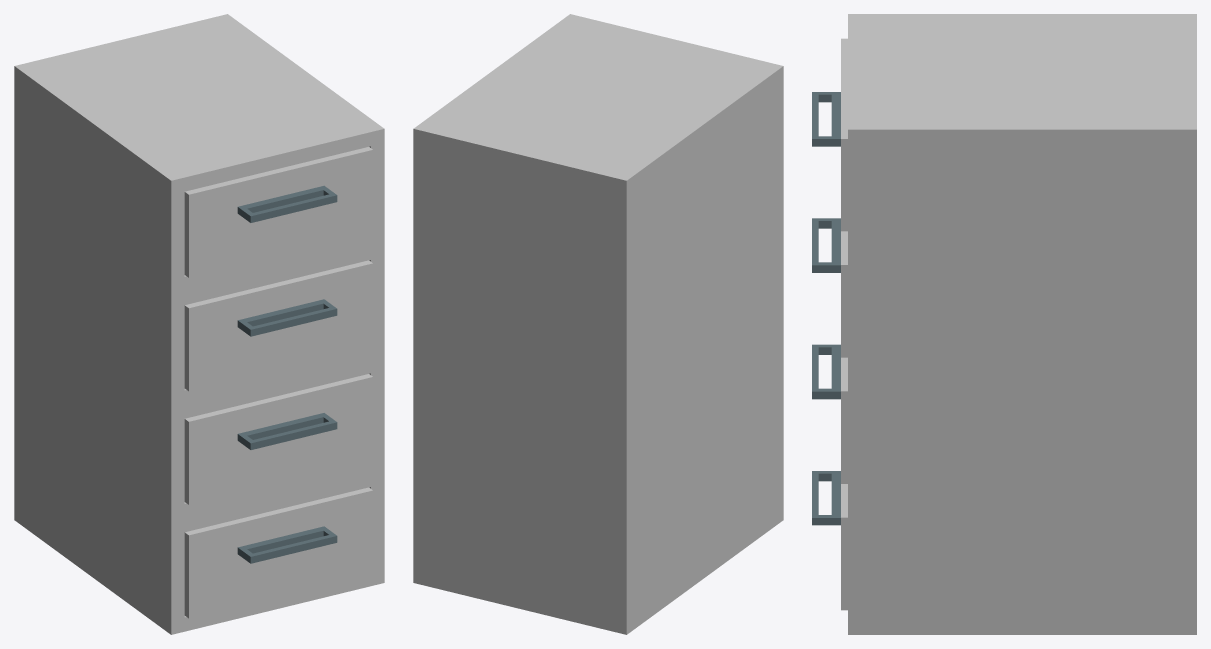
Rendered from CabinetLargeV1White.fbx.
3 views of the same model, side by side, from view 1: azimuth 30°, elevation 25°; view 2: azimuth 150°, elevation 25°; view 3: azimuth 270°, elevation 25° (orthographic). The views are drawn at different scales.
Parts seen in each view (by area): view 1: CabinetLargeV1White, CabinetLargeV1White_Drawer4, CabinetLargeV1White_Drawer3, CabinetLargeV1White_Drawer2, CabinetLargeV1White_Drawer1; view 2: CabinetLargeV1White; view 3: CabinetLargeV1White, CabinetLargeV1White_Drawer1, CabinetLargeV1White_Drawer3, CabinetLargeV1White_Drawer4, CabinetLargeV1White_Drawer2.
Boxes of the visible parts, bbox=[...] form: CabinetLargeV1White: bbox=[14, 14, 384, 634]; CabinetLargeV1White_Drawer4: bbox=[184, 487, 373, 618]; CabinetLargeV1White_Drawer3: bbox=[184, 374, 373, 504]; CabinetLargeV1White_Drawer2: bbox=[184, 260, 373, 391]; CabinetLargeV1White_Drawer1: bbox=[184, 147, 373, 277]; CabinetLargeV1White: bbox=[413, 14, 783, 634]; CabinetLargeV1White: bbox=[848, 14, 1196, 634]; CabinetLargeV1White_Drawer1: bbox=[812, 38, 847, 231]; CabinetLargeV1White_Drawer3: bbox=[812, 344, 847, 483]; CabinetLargeV1White_Drawer4: bbox=[812, 471, 847, 610]; CabinetLargeV1White_Drawer2: bbox=[812, 218, 847, 357].
Bounding box in the file's own units: 39.32 × 80 × 55.23.
